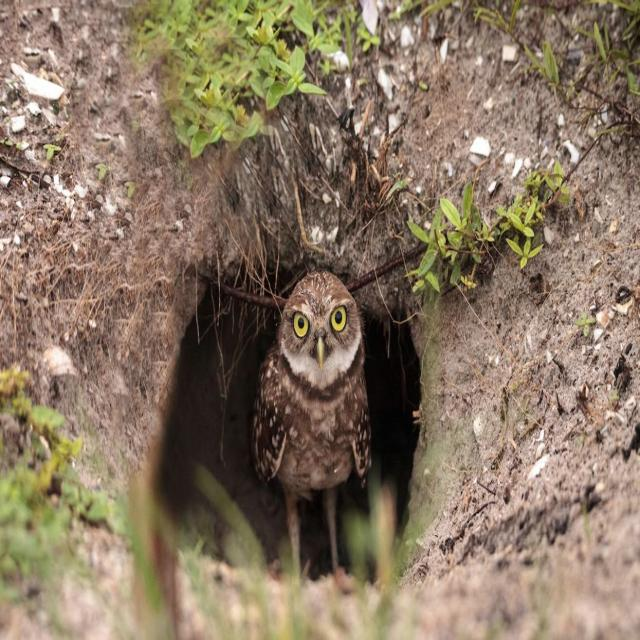owl: (251, 271, 371, 570)
